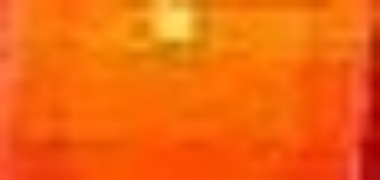Hotspot: (136, 1, 221, 61)
